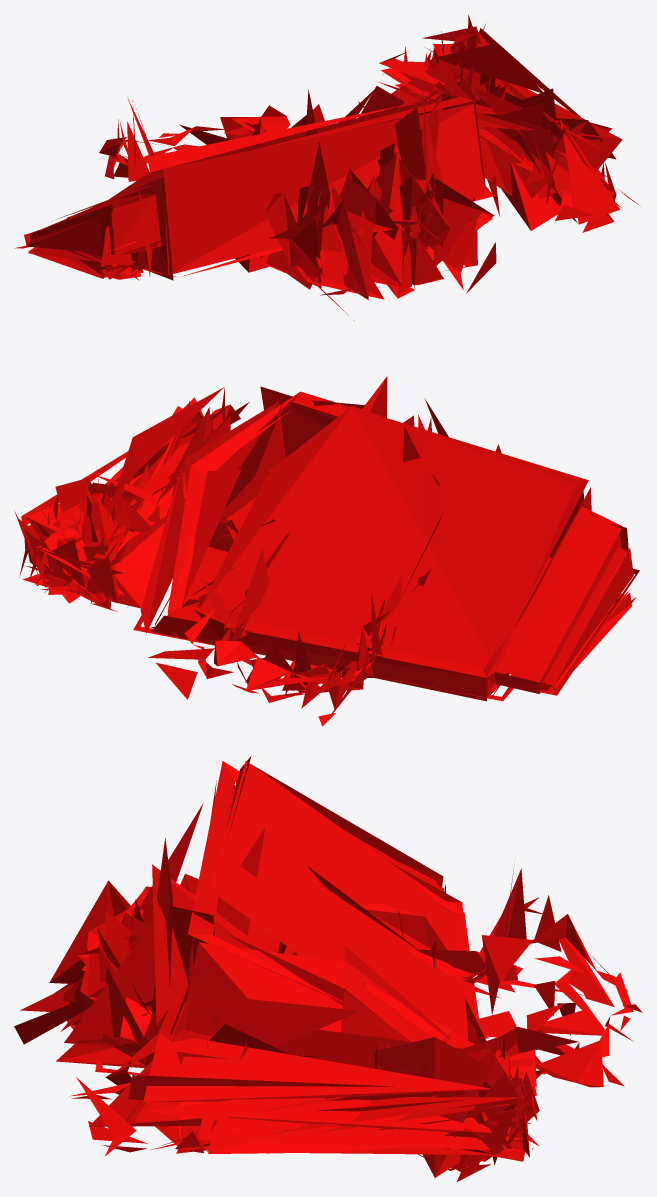
3 views of the same model, one above another, from view 1: azimuth 30°, elevation 25°; view 2: azimuth 150°, elevation 25°; view 3: azimuth 270°, elevation 25° (orthographic). The views are drawn at different scales.
Parts seen in each view (by area): view 1: Renderer Node; view 2: Renderer Node; view 3: Renderer Node.
Part boxes in pixels (bbox=[...]): Renderer Node: bbox=[14, 15, 639, 320]; Renderer Node: bbox=[14, 376, 639, 726]; Renderer Node: bbox=[14, 756, 642, 1182].
Bounding box in the file's own units: 0.753 × 0.3396 × 0.6626.
1 material, 1 textured.
